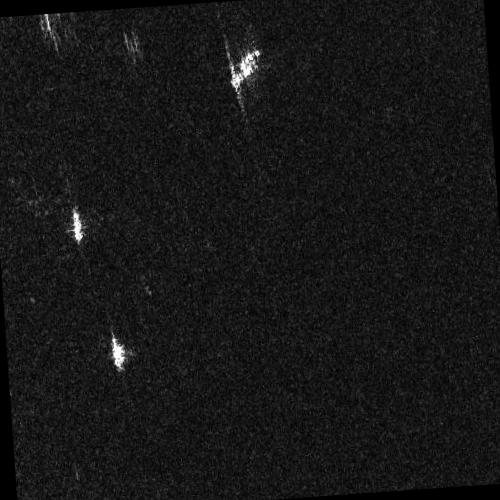ship: (229, 48, 262, 90), (109, 328, 125, 372), (72, 206, 84, 244)
